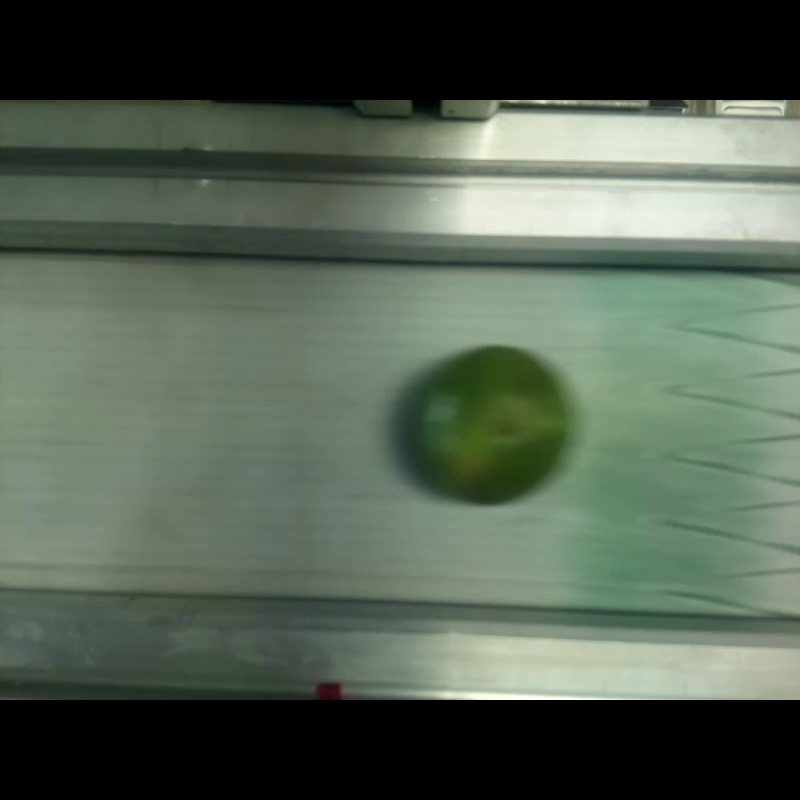lime: (415, 345, 565, 503)
